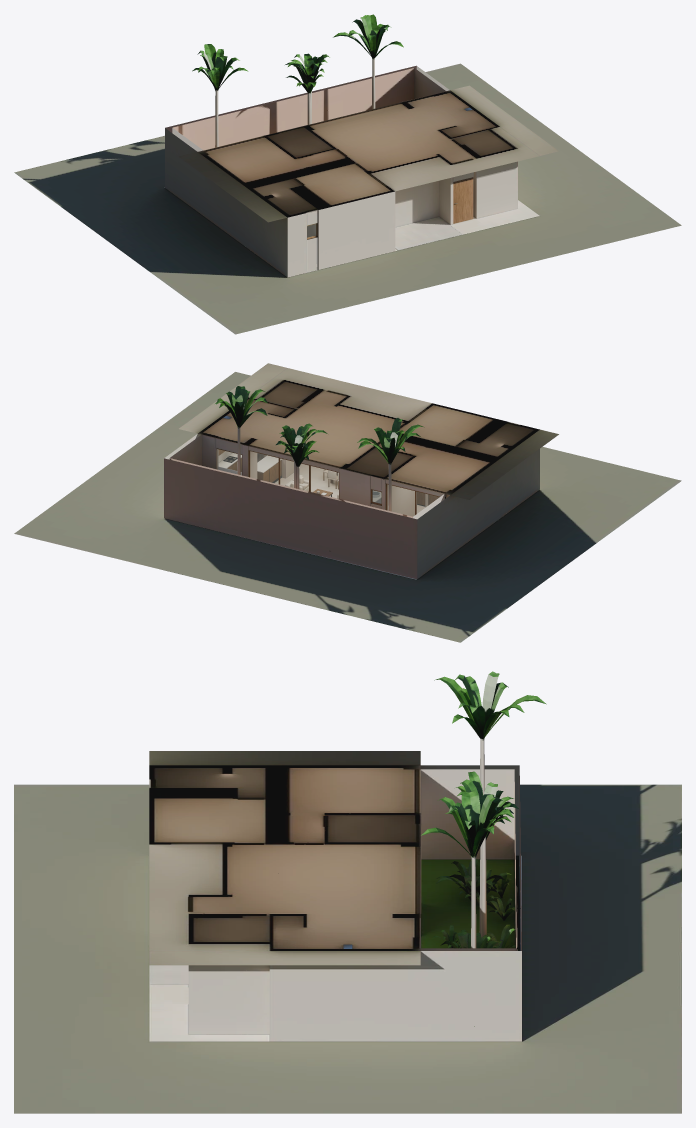
3 renders of one model, top to bottom at view 1: azimuth 30°, elevation 25°; view 2: azimuth 150°, elevation 25°; view 3: azimuth 270°, elevation 25°, orthographic. The views are drawn at different scales.
Visible parts, largest first — view 1: D2_muros, D2_piso, D2_muebles, D2_carp; view 2: D2_muros, D2_piso, D2_muebles, D2_vidrio, D2_carp; view 3: D2_piso, D2_muros, D2_muebles.
Boxes of the visible parts, left/top/right/bottom form: D2_muros: left=165, top=65, right=558, bottom=277; D2_piso: left=14, top=63, right=681, bottom=334; D2_muebles: left=192, top=14, right=472, bottom=203; D2_carp: left=307, top=177, right=473, bottom=239; D2_muros: left=164, top=363, right=558, bottom=579; D2_piso: left=14, top=372, right=681, bottom=642; D2_muebles: left=215, top=386, right=425, bottom=551; D2_vidrio: left=217, top=449, right=438, bottom=515; D2_carp: left=217, top=448, right=445, bottom=514; D2_piso: left=14, top=784, right=681, bottom=1113; D2_muros: left=149, top=751, right=521, bottom=1041; D2_muebles: left=343, top=671, right=546, bottom=1026.
Size of the model in its own units: 23 by 6.76 by 19.74.
5 materials, 4 textured.
